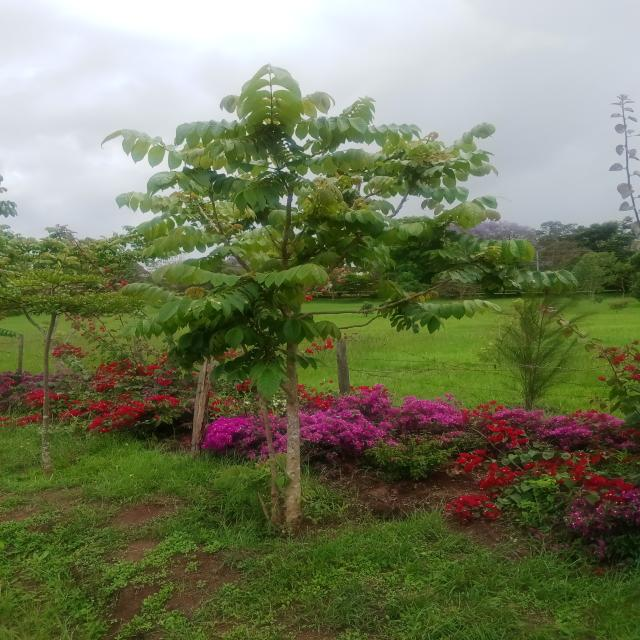Polyscias Kikuyensis: (89, 64, 576, 519)
